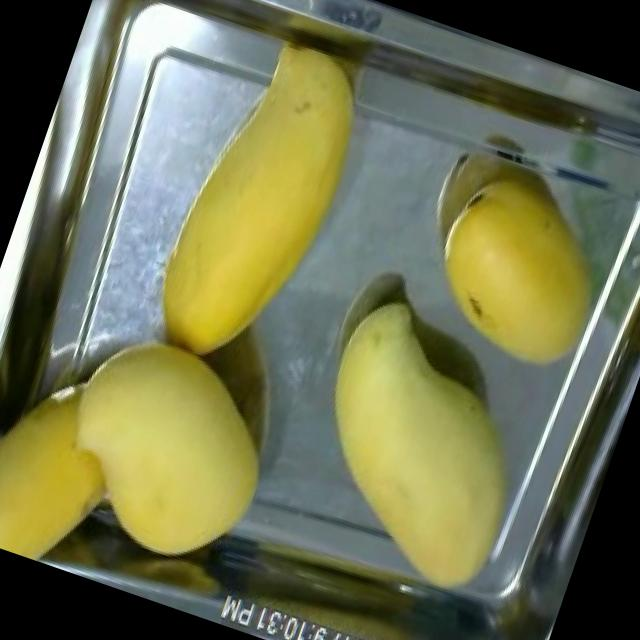fruit: (124, 9, 400, 396), (1, 290, 316, 598), (266, 304, 570, 616), (405, 144, 636, 388)
